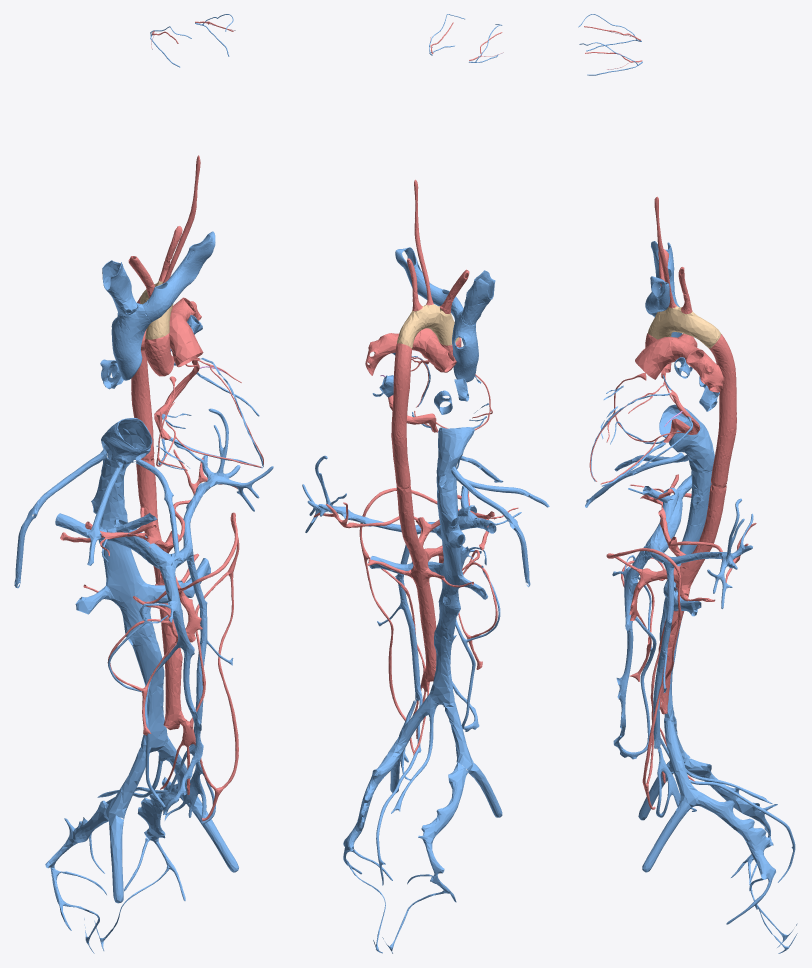
File: organ-blood-vessels.glb
3 views of the same model, side by side, from view 1: azimuth 30°, elevation 25°; view 2: azimuth 150°, elevation 25°; view 3: azimuth 270°, elevation 25° (orthographic). The views are drawn at different scales.
Parts seen in each view (by area): view 1: inferior-vena-cava, descending-aorta, brachiocephalic-vein, internal-iliac-vein, superior-mesenteric-vein, splenic-vein, superior-vena-cava, external-iliac-vein, common-iliac-vein, marginal-artery-of-drummond, inferior-mesenteric-vein, right-hepatic-vein (+13 smaller); view 2: inferior-vena-cava, descending-aorta, internal-iliac-vein, brachiocephalic-vein, common-iliac-vein, aortic-arch, pulmonary-artery, superior-vena-cava, splenic-vein, marginal-artery-of-drummond, inferior-mesenteric-vein, right-hepatic-vein (+5 smaller); view 3: descending-aorta, inferior-vena-cava, internal-iliac-vein, aortic-arch, splenic-vein, superior-mesenteric-vein, pulmonary-artery, common-iliac-vein, external-iliac-vein, inferior-mesenteric-vein, brachiocephalic-vein, marginal-artery-of-drummond (+11 smaller).
Part boxes in pixels (bbox=[...]): inferior-vena-cava: bbox=[91, 417, 168, 752]; descending-aorta: bbox=[131, 295, 182, 729]; brachiocephalic-vein: bbox=[102, 231, 215, 321]; internal-iliac-vein: bbox=[45, 777, 176, 879]; superior-mesenteric-vein: bbox=[158, 565, 203, 812]; splenic-vein: bbox=[170, 408, 273, 567]; superior-vena-cava: bbox=[111, 303, 152, 380]; external-iliac-vein: bbox=[109, 796, 238, 903]; common-iliac-vein: bbox=[106, 739, 190, 819]; marginal-artery-of-drummond: bbox=[179, 512, 239, 821]; inferior-mesenteric-vein: bbox=[186, 549, 207, 755]; right-hepatic-vein: bbox=[14, 449, 107, 588]; inferior-vena-cava: bbox=[430, 427, 474, 706]; descending-aorta: bbox=[391, 343, 436, 682]; internal-iliac-vein: bbox=[343, 752, 467, 883]; brachiocephalic-vein: bbox=[395, 247, 495, 325]; common-iliac-vein: bbox=[388, 693, 473, 770]; aortic-arch: bbox=[397, 304, 459, 348]; pulmonary-artery: bbox=[365, 331, 456, 375]; superior-vena-cava: bbox=[452, 310, 478, 382]; splenic-vein: bbox=[302, 455, 440, 534]; marginal-artery-of-drummond: bbox=[359, 488, 437, 752]; inferior-mesenteric-vein: bbox=[395, 544, 422, 701]; right-hepatic-vein: bbox=[451, 466, 530, 586]; descending-aorta: bbox=[657, 334, 736, 714]; inferior-vena-cava: bbox=[659, 404, 714, 721]; internal-iliac-vein: bbox=[684, 758, 777, 881]; aortic-arch: bbox=[648, 306, 720, 348]; splenic-vein: bbox=[646, 498, 753, 608]; superior-mesenteric-vein: bbox=[613, 545, 651, 753]; pulmonary-artery: bbox=[670, 333, 723, 392]; common-iliac-vein: bbox=[664, 718, 698, 807]; external-iliac-vein: bbox=[638, 761, 691, 872]; inferior-mesenteric-vein: bbox=[653, 561, 674, 749]; brachiocephalic-vein: bbox=[645, 241, 675, 315]; marginal-artery-of-drummond: bbox=[606, 548, 681, 809].
Size of the model in its own units: 0.2361 by 0.8718 by 0.1874.
